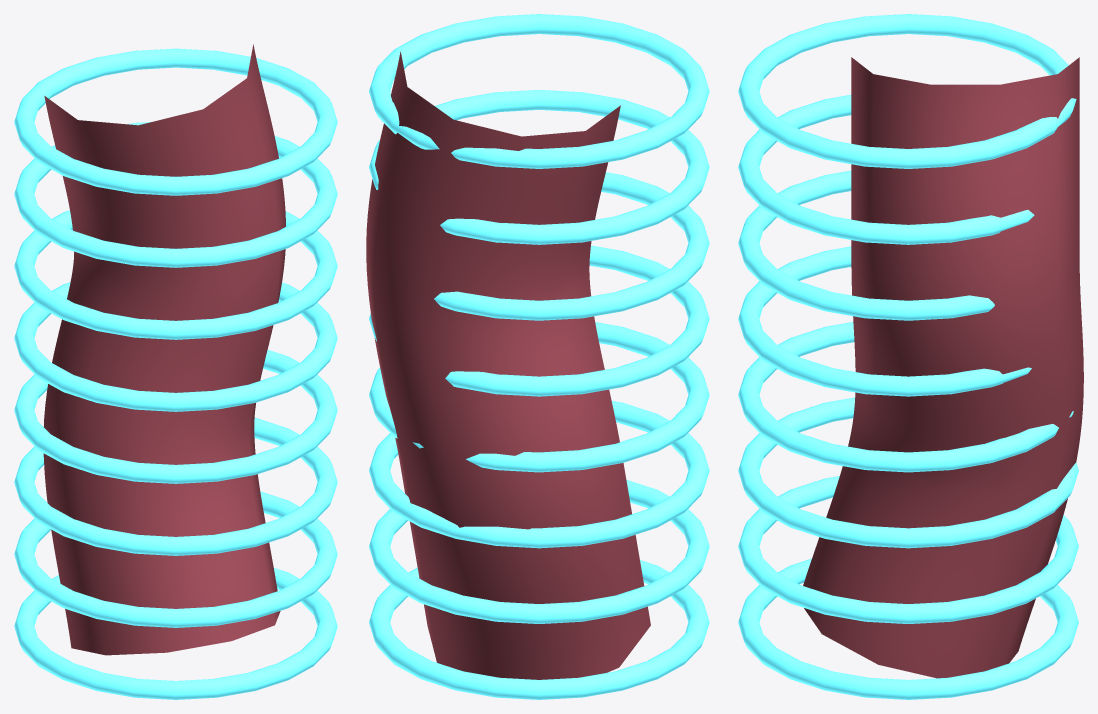
The model's file is rectum-exit-pathway.glb.
3 renders of one model, left to right at view 1: azimuth 30°, elevation 25°; view 2: azimuth 150°, elevation 25°; view 3: azimuth 270°, elevation 25°, orthographic. The views are drawn at different scales.
Parts seen in each view (by area): view 1: rectum-path, path-arrow-0, path-arrow-5, path-arrow-6, path-arrow-4, path-arrow-3, path-arrow-7, path-arrow-1, path-arrow-2; view 2: rectum-path, path-arrow-0, path-arrow-1, path-arrow-6, path-arrow-5, path-arrow-7, path-arrow-4, path-arrow-3, path-arrow-2; view 3: rectum-path, path-arrow-0, path-arrow-6, path-arrow-5, path-arrow-7, path-arrow-4, path-arrow-1, path-arrow-3, path-arrow-2.
Part boxes in pixels (x1=…): rectum-path: x1=43, y1=44, x2=285, y2=655; path-arrow-0: x1=14, y1=48, x2=337, y2=195; path-arrow-5: x1=14, y1=417, x2=337, y2=555; path-arrow-6: x1=14, y1=491, x2=337, y2=627; path-arrow-4: x1=14, y1=350, x2=337, y2=483; path-arrow-3: x1=14, y1=282, x2=337, y2=411; path-arrow-7: x1=14, y1=568, x2=337, y2=699; path-arrow-1: x1=14, y1=122, x2=337, y2=267; path-arrow-2: x1=14, y1=210, x2=337, y2=339; rectum-path: x1=366, y1=51, x2=650, y2=679; path-arrow-0: x1=369, y1=14, x2=709, y2=168; path-arrow-1: x1=369, y1=90, x2=709, y2=244; path-arrow-6: x1=369, y1=479, x2=709, y2=623; path-arrow-5: x1=369, y1=401, x2=709, y2=548; path-arrow-7: x1=369, y1=560, x2=709, y2=699; path-arrow-4: x1=369, y1=322, x2=709, y2=472; path-arrow-3: x1=369, y1=245, x2=709, y2=396; path-arrow-2: x1=434, y1=172, x2=709, y2=320; rectum-path: x1=803, y1=57, x2=1083, y2=678; path-arrow-0: x1=738, y1=14, x2=1076, y2=168; path-arrow-6: x1=738, y1=476, x2=1078, y2=623; path-arrow-5: x1=738, y1=397, x2=1078, y2=548; path-arrow-7: x1=738, y1=558, x2=1078, y2=699; path-arrow-4: x1=738, y1=322, x2=1073, y2=472; path-arrow-1: x1=738, y1=95, x2=1034, y2=244; path-arrow-3: x1=738, y1=246, x2=1031, y2=396; path-arrow-2: x1=738, y1=170, x2=994, y2=320.
Size of the model in its own units: 0.896 by 1.78 by 0.9089.
